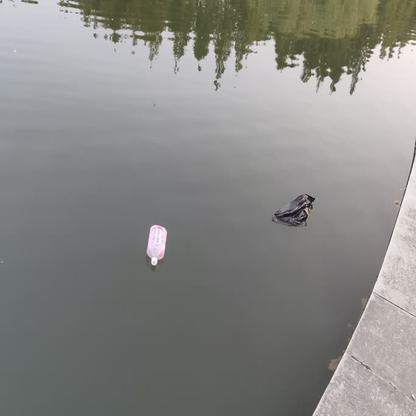plastic bag: (272, 193, 314, 226)
plastic bottle: (146, 223, 167, 267)
